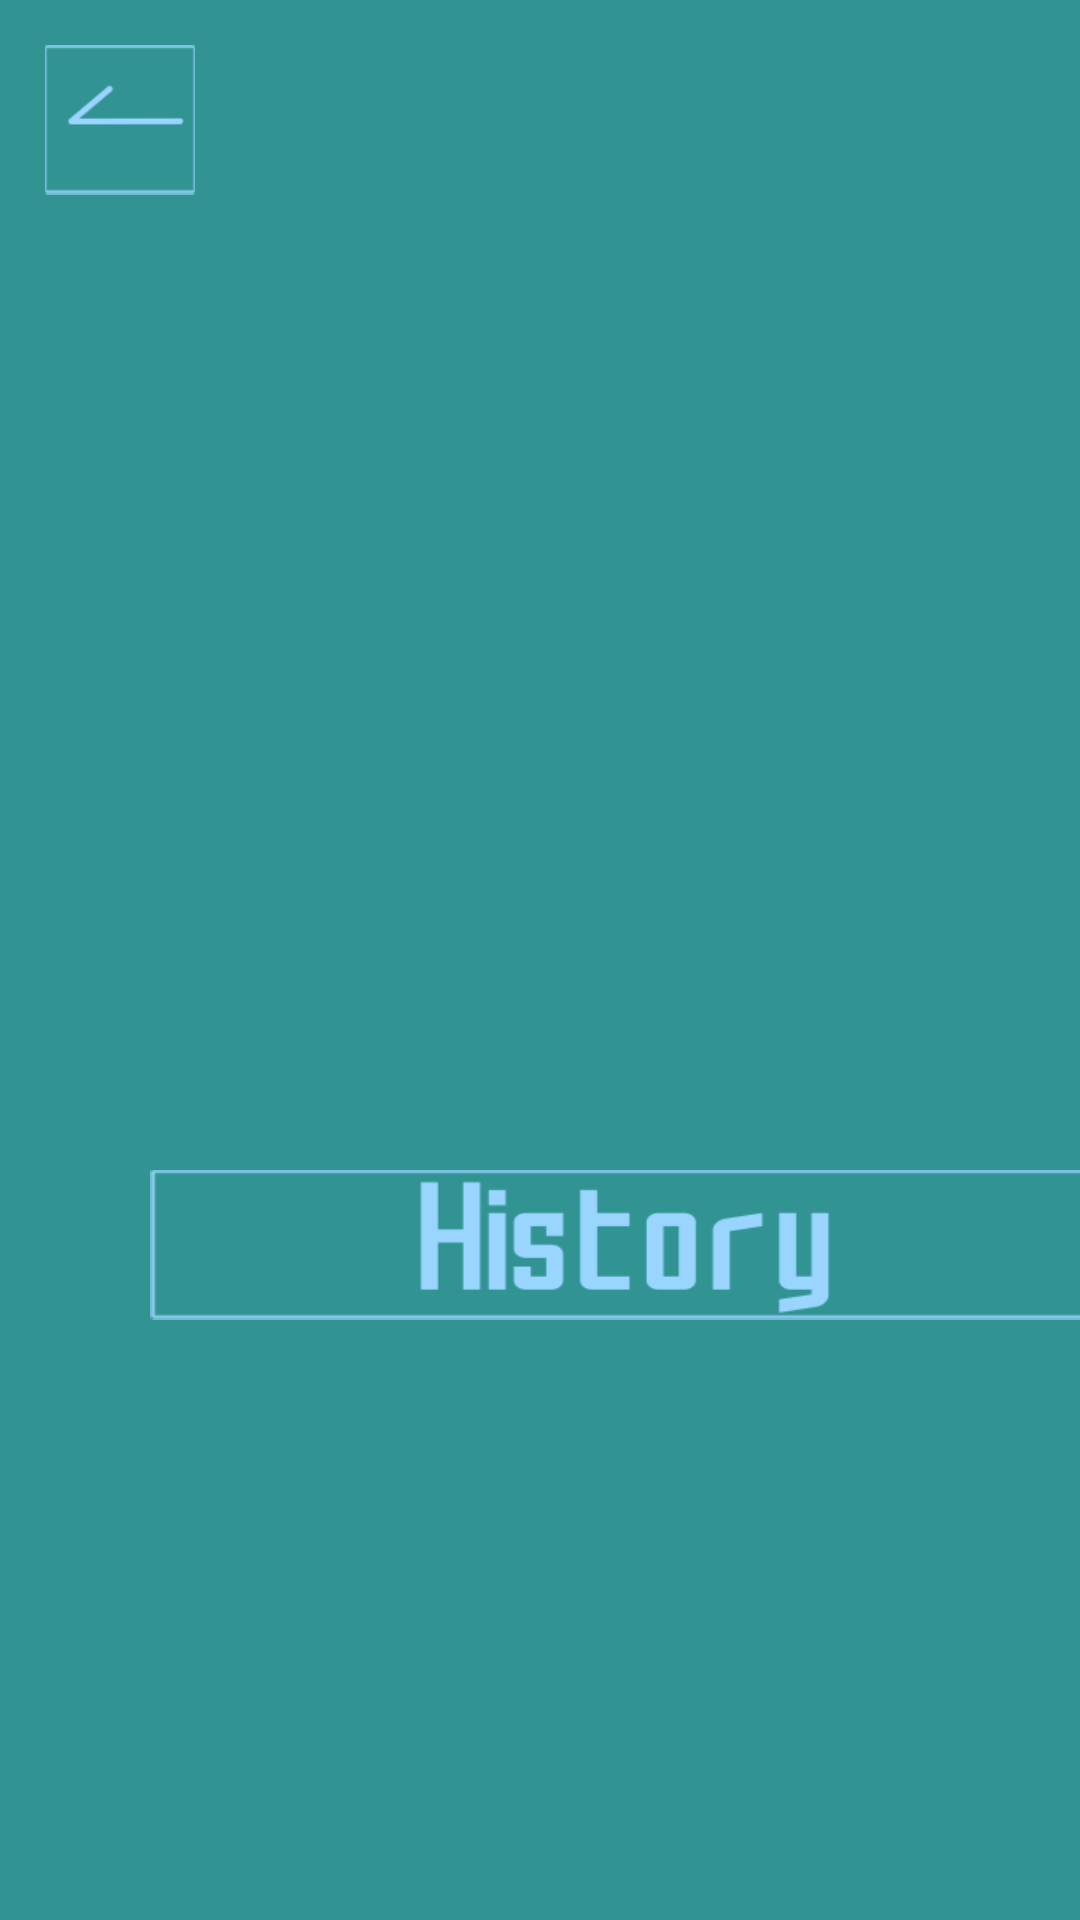

Icon click points for this 1080px×1920px phone screenshot, format point (x, y):
back: point (120, 120)
